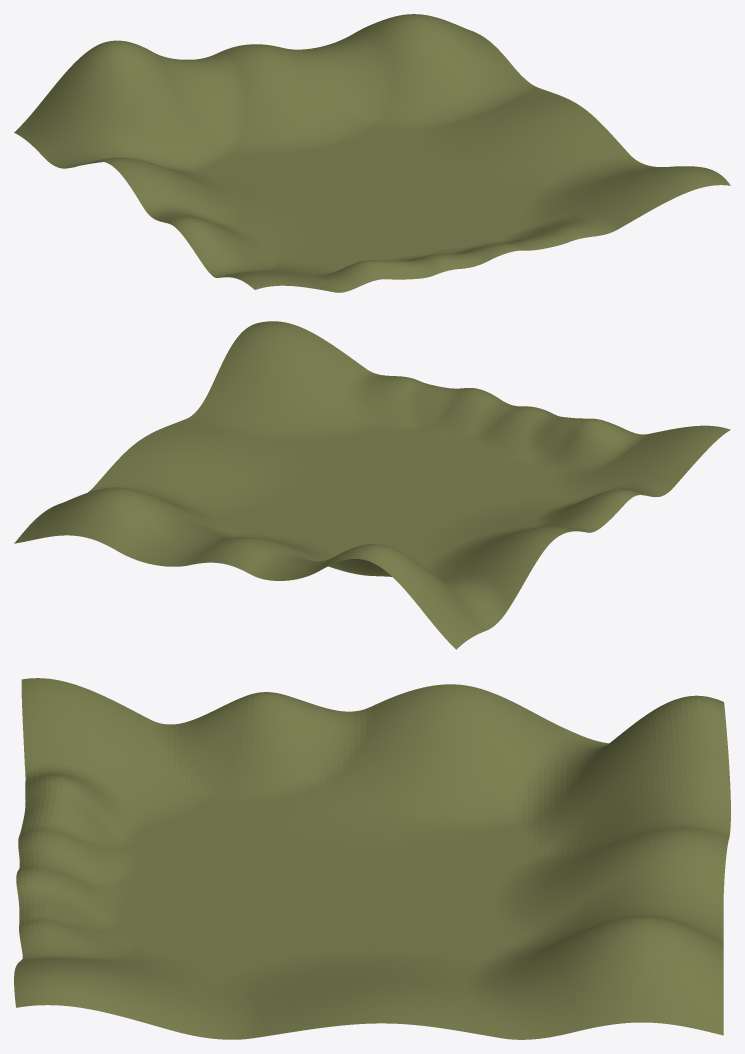
The model's file is Plano.fbx.
3 views of the same model, one above another, from view 1: azimuth 30°, elevation 25°; view 2: azimuth 150°, elevation 25°; view 3: azimuth 270°, elevation 25° (orthographic). The views are drawn at different scales.
Parts seen in each view (by area): view 1: Plane; view 2: Plane; view 3: Plane.
Part boxes in pixels (bbox=[...]): Plane: bbox=[14, 14, 730, 292]; Plane: bbox=[14, 321, 730, 649]; Plane: bbox=[14, 678, 730, 1039].
Size of the model in its own units: 16956 by 2779 by 16267.
Materials: 1 (1 with a texture image).
